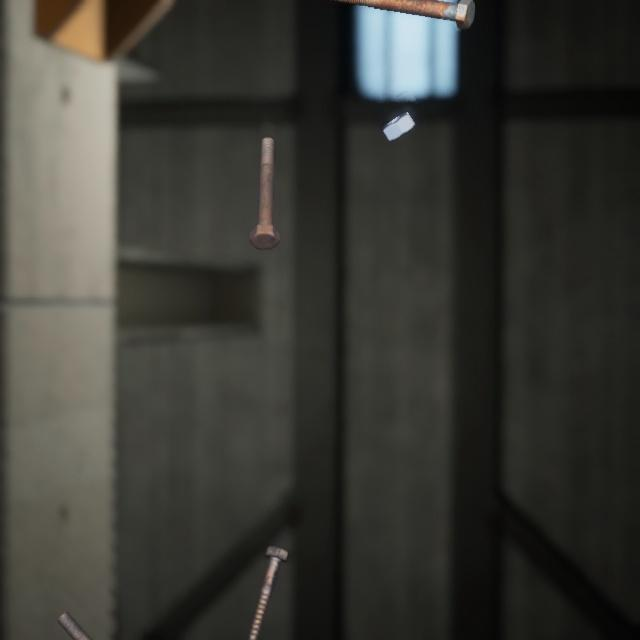bolt: (242, 518, 293, 632), (244, 118, 284, 238), (52, 582, 119, 640), (357, 0, 479, 27)
nut: (377, 96, 419, 133)
